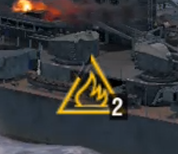2fire: (53, 82, 128, 120)
